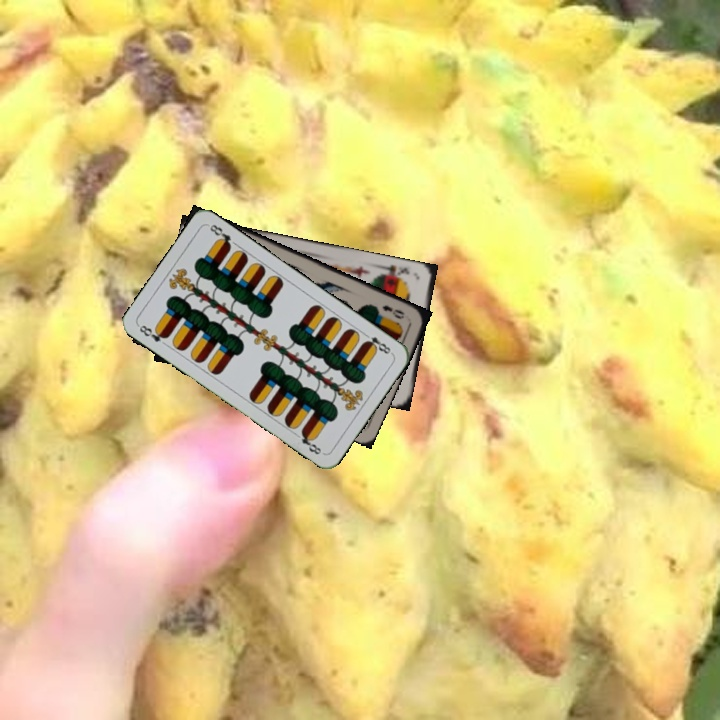E8: (359, 329, 395, 357), (135, 321, 170, 345)
EO: (378, 301, 407, 322)
SK: (378, 261, 412, 281)
